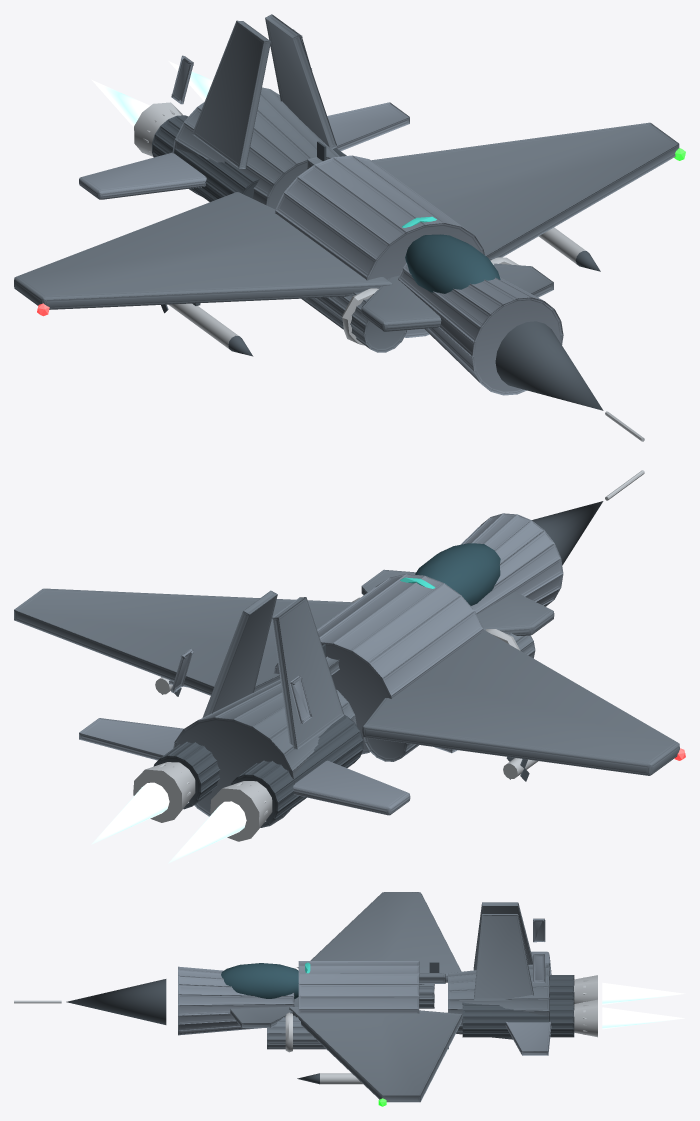
Rendered from player_jet.glb.
3 renders of one model, top to bottom at view 1: azimuth 30°, elevation 25°; view 2: azimuth 150°, elevation 25°; view 3: azimuth 270°, elevation 25°, orthographic. The views are drawn at different scales.
Visible parts, largest first — view 1: Airframe, FlameL; view 2: Airframe, FlameL, FlameR; view 3: Airframe, FlameL, FlameR.
Boxes of the visible parts, x1,y1,x2,y2 form: Airframe: (14, 14, 679, 441); FlameL: (91, 79, 150, 127); Airframe: (14, 470, 679, 841); FlameL: (168, 801, 246, 863); FlameR: (91, 782, 169, 844); Airframe: (14, 892, 597, 1102); FlameL: (602, 982, 685, 1004); FlameR: (602, 1007, 684, 1029).
Size of what is drawn, in the model's own units: 8.75 by 2.56 by 12.03.
